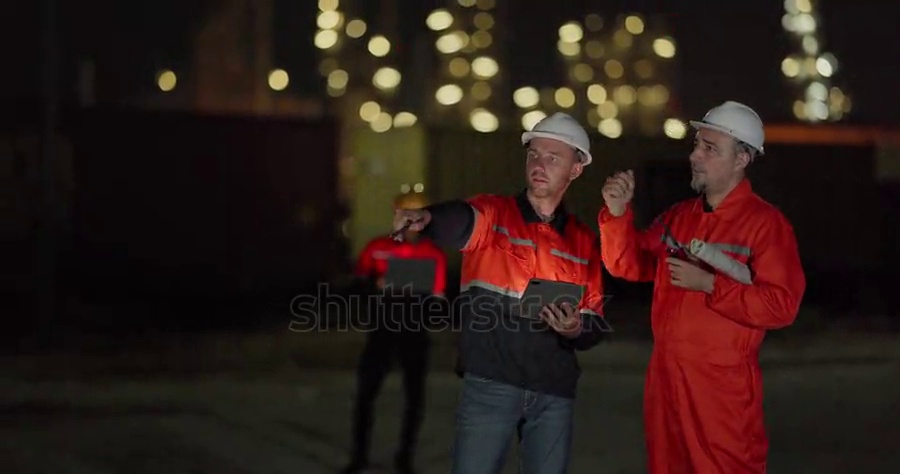helmet: (688, 100, 766, 160), (520, 111, 593, 166), (391, 190, 433, 213)
person: (386, 110, 609, 474), (594, 100, 807, 474), (344, 190, 447, 474)
